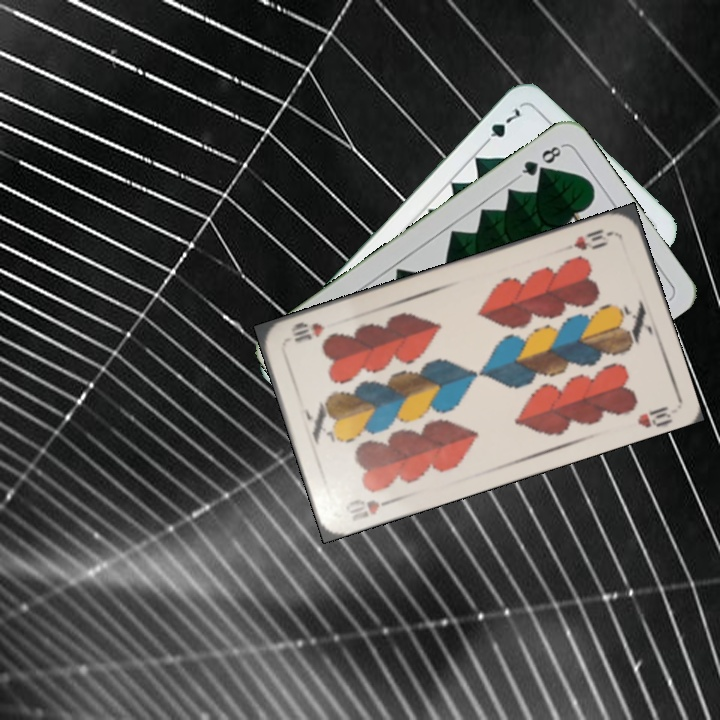G7: (477, 103, 523, 150)
G8: (514, 141, 566, 181)
H10: (341, 494, 398, 524), (570, 225, 616, 253)
